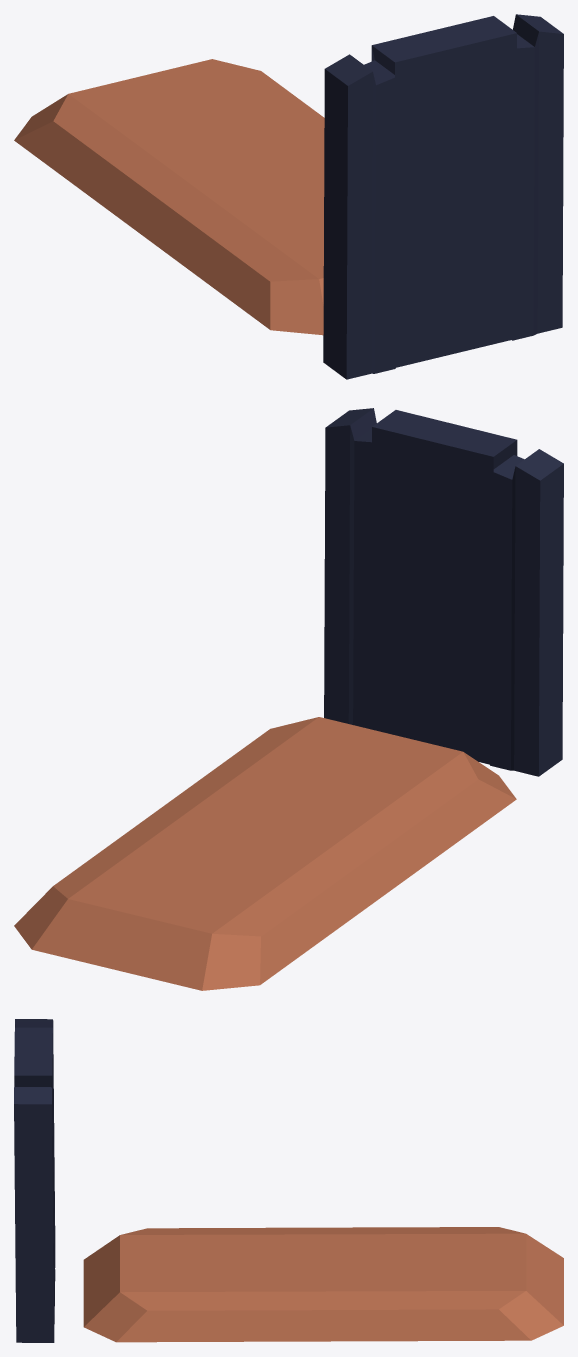
Rendered from TumuloLapide.fbx.
The picture shows the model from 3 angles, top to bottom: view 1: azimuth 30°, elevation 25°; view 2: azimuth 150°, elevation 25°; view 3: azimuth 270°, elevation 25°; orthographic projection. The views are drawn at different scales.
Parts seen in each view (by area): view 1: Tumulo; view 2: Tumulo; view 3: Tumulo.
Part boxes in pixels (left/top/right/bottom): Tumulo: left=14, top=14, right=563, bottom=379; Tumulo: left=14, top=408, right=563, bottom=990; Tumulo: left=14, top=1019, right=563, bottom=1342.
Size of the model in its own units: 133 by 319 by 160.
